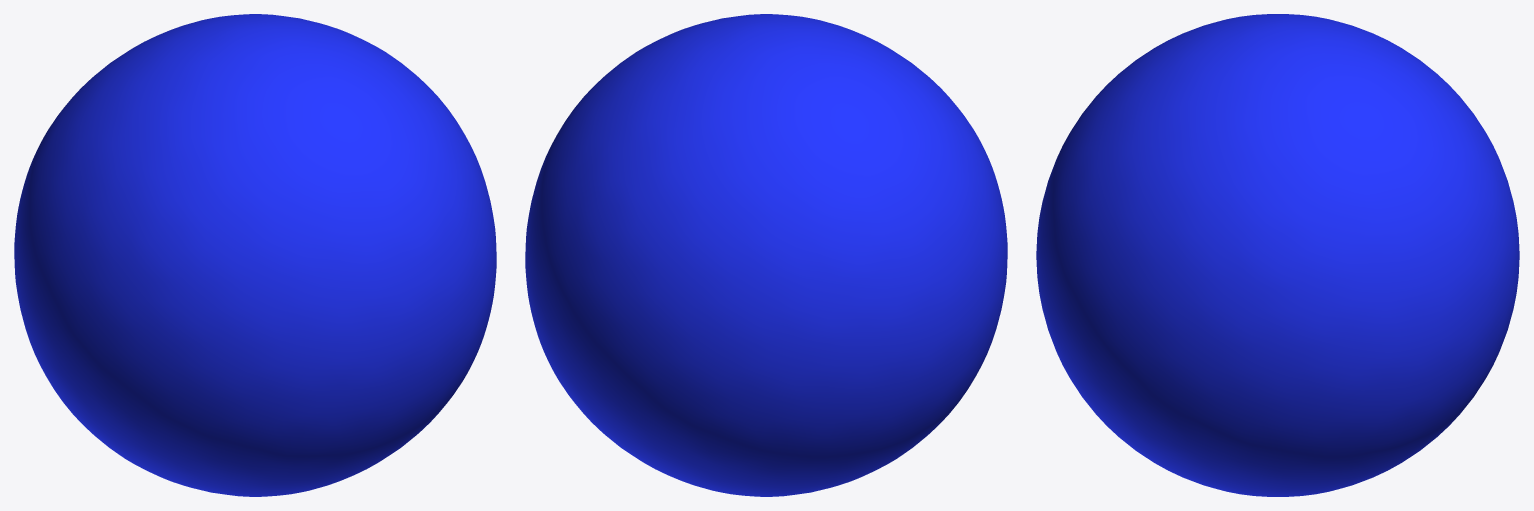
The model's file is planet.fbx.
3 renders of one model, left to right at view 1: azimuth 30°, elevation 25°; view 2: azimuth 150°, elevation 25°; view 3: azimuth 270°, elevation 25°, orthographic.
Parts seen in each view (by area): view 1: Icosphere; view 2: Icosphere; view 3: Icosphere.
Part boxes in pixels (left/top/right/bottom): Icosphere: left=14, top=14, right=496, bottom=496; Icosphere: left=525, top=14, right=1007, bottom=496; Icosphere: left=1036, top=14, right=1519, bottom=496.
Bounding box in the file's own units: 196 × 197 × 196.
